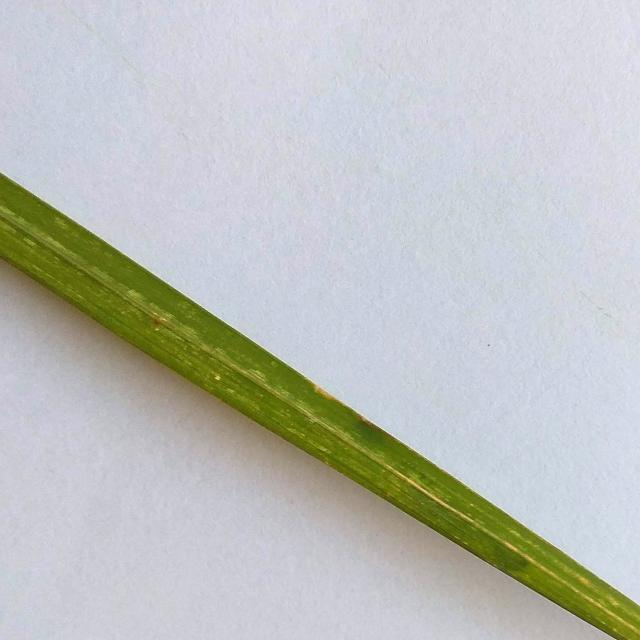brownspots: (141, 312, 170, 329)
